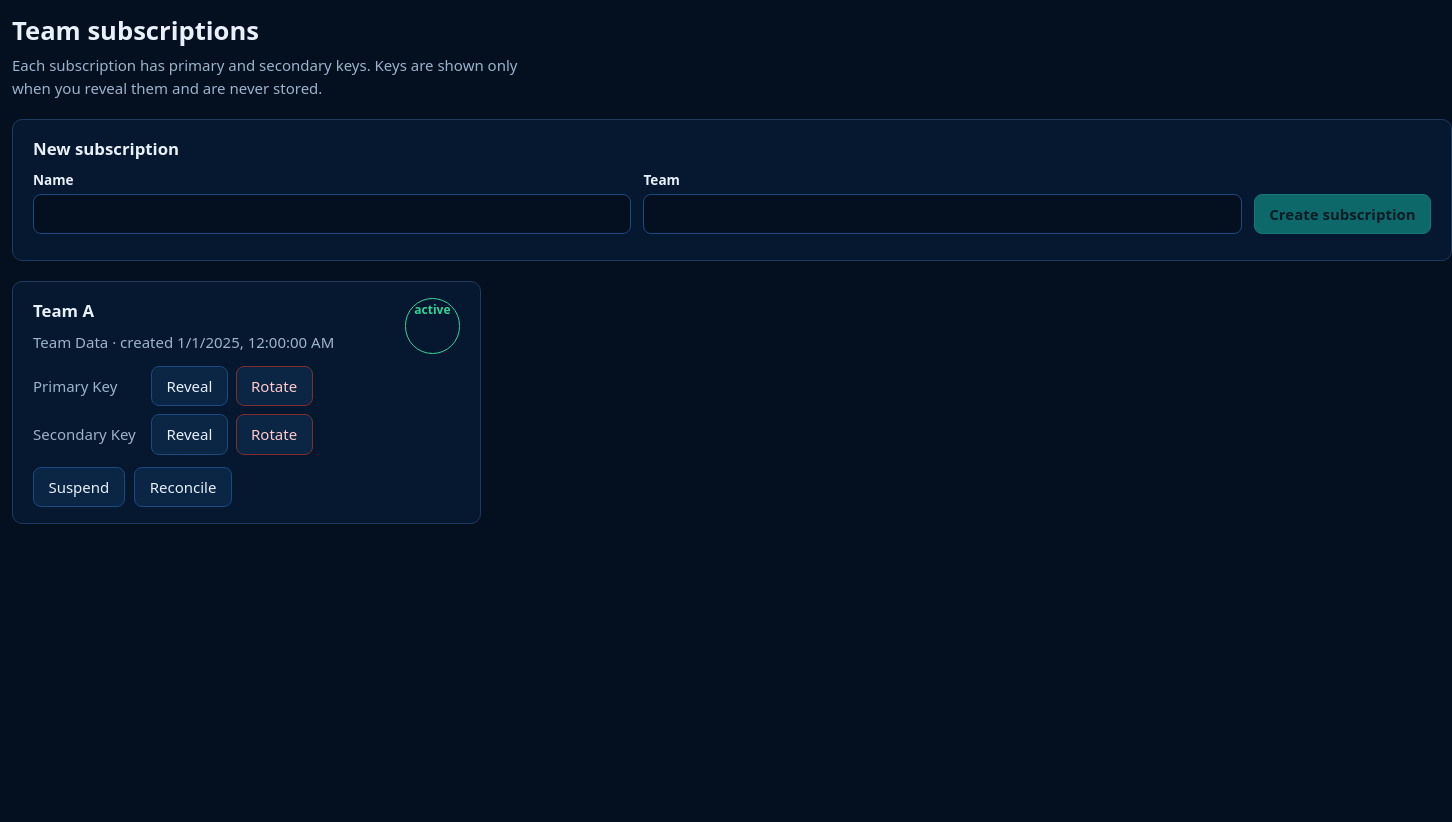
Scenario: SubscriptionsPage › shows an empty state and reveals keys only on click, clearing on Hide
Expected: the heading "Team A" is shown, [33,299,94,322]
Expected: the text "SECRETKEY123" is not shown
Click the 1st button "Reveal" at [189, 386], box [151,366,228,406]
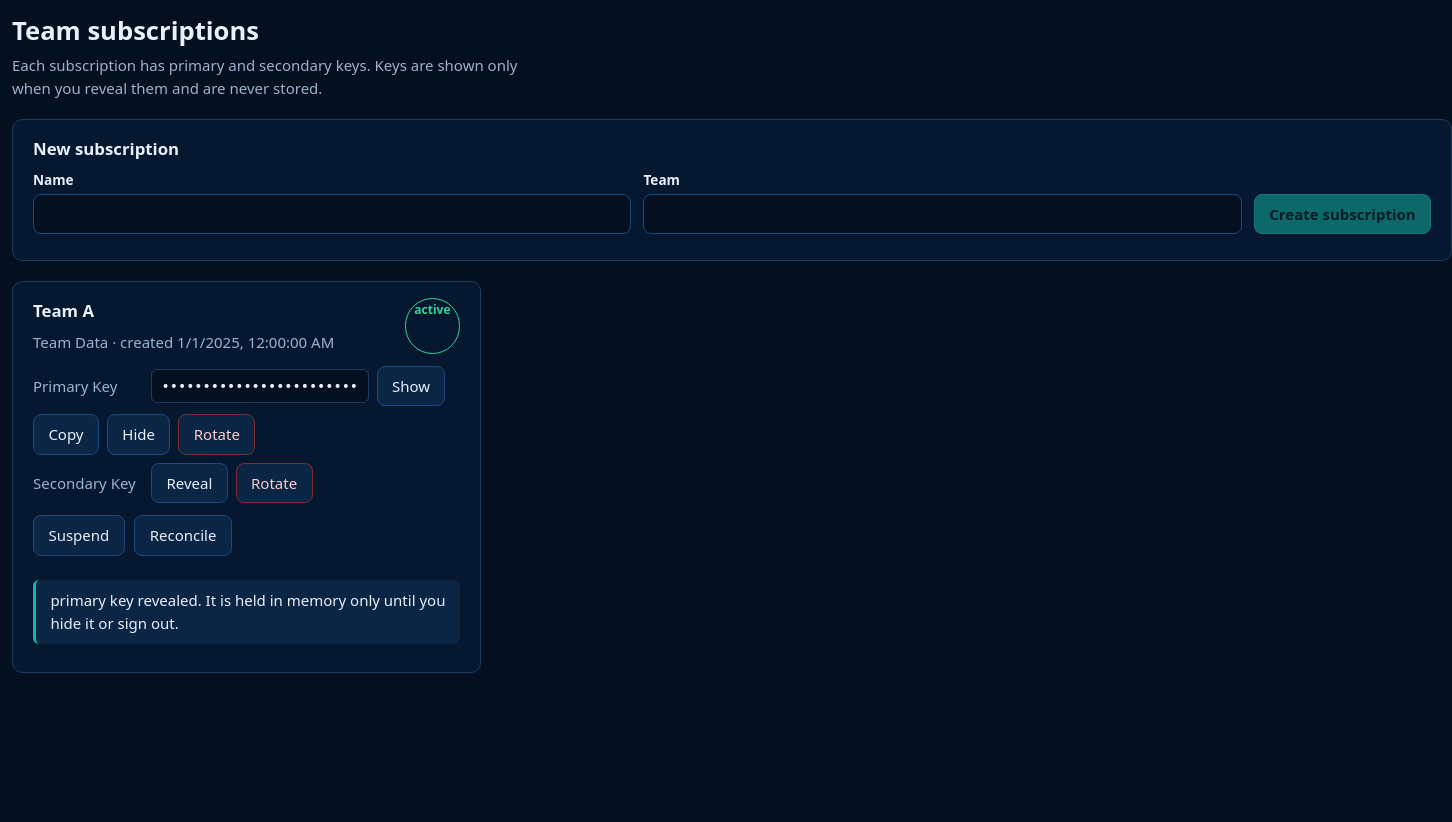
Expected: the field labelled "primary key value" does not show "SECRETKEY123"
Now the text named "primary key value" is shown, box [151,369,369,403]
Click the button "Show" at [411, 386], box [377,366,446,406]
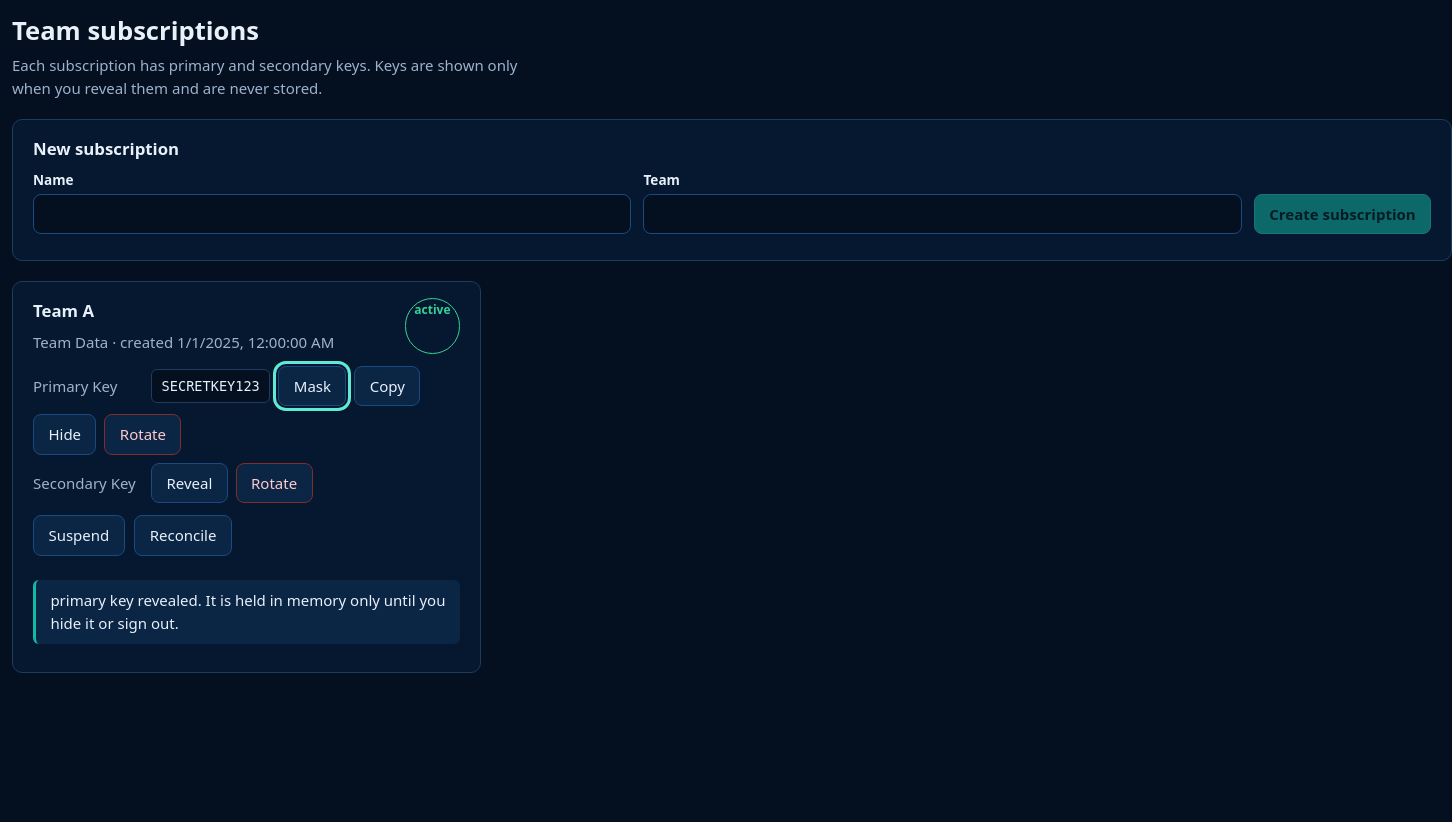
Now the text named "primary key value" reads "SECRETKEY123", box [162,378,260,394]
Click the button "Hide" at [65, 435], box [33,414,96,455]
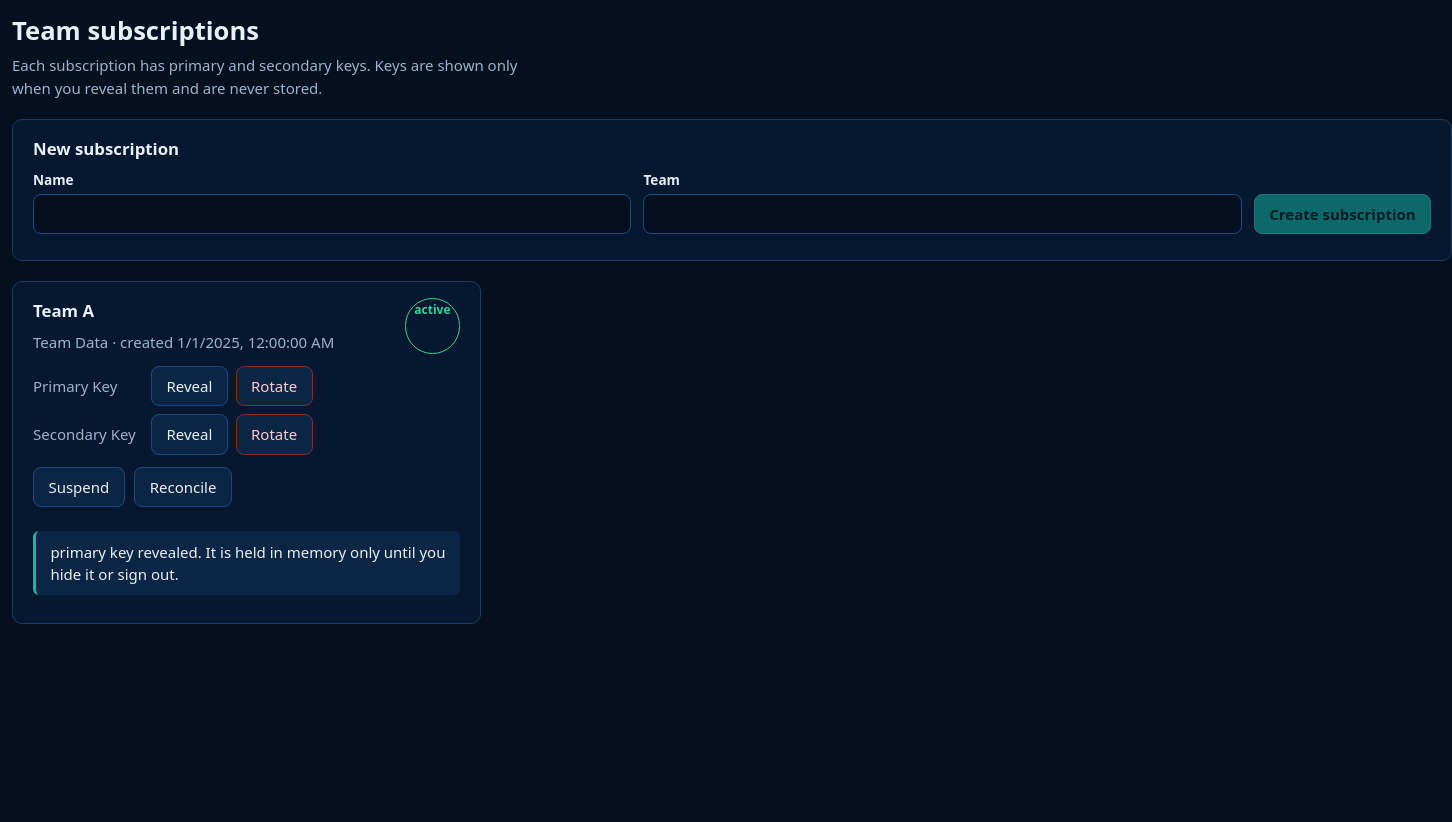
Now the text "SECRETKEY123" is gone
